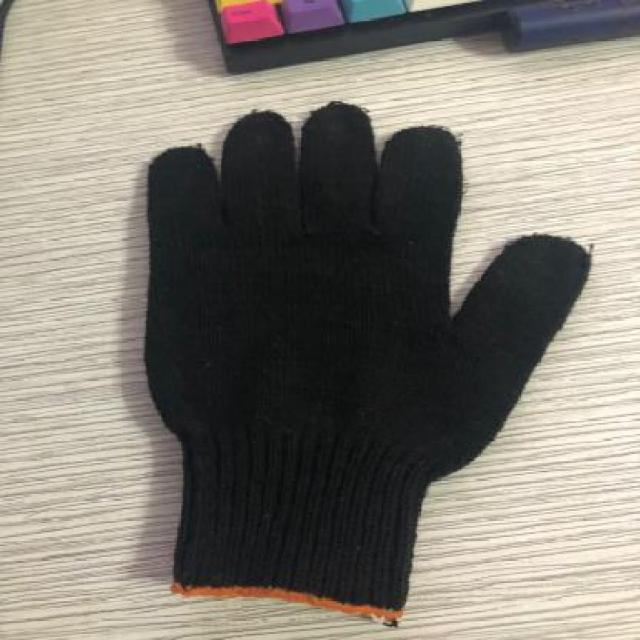Gloves: (135, 96, 599, 627)
